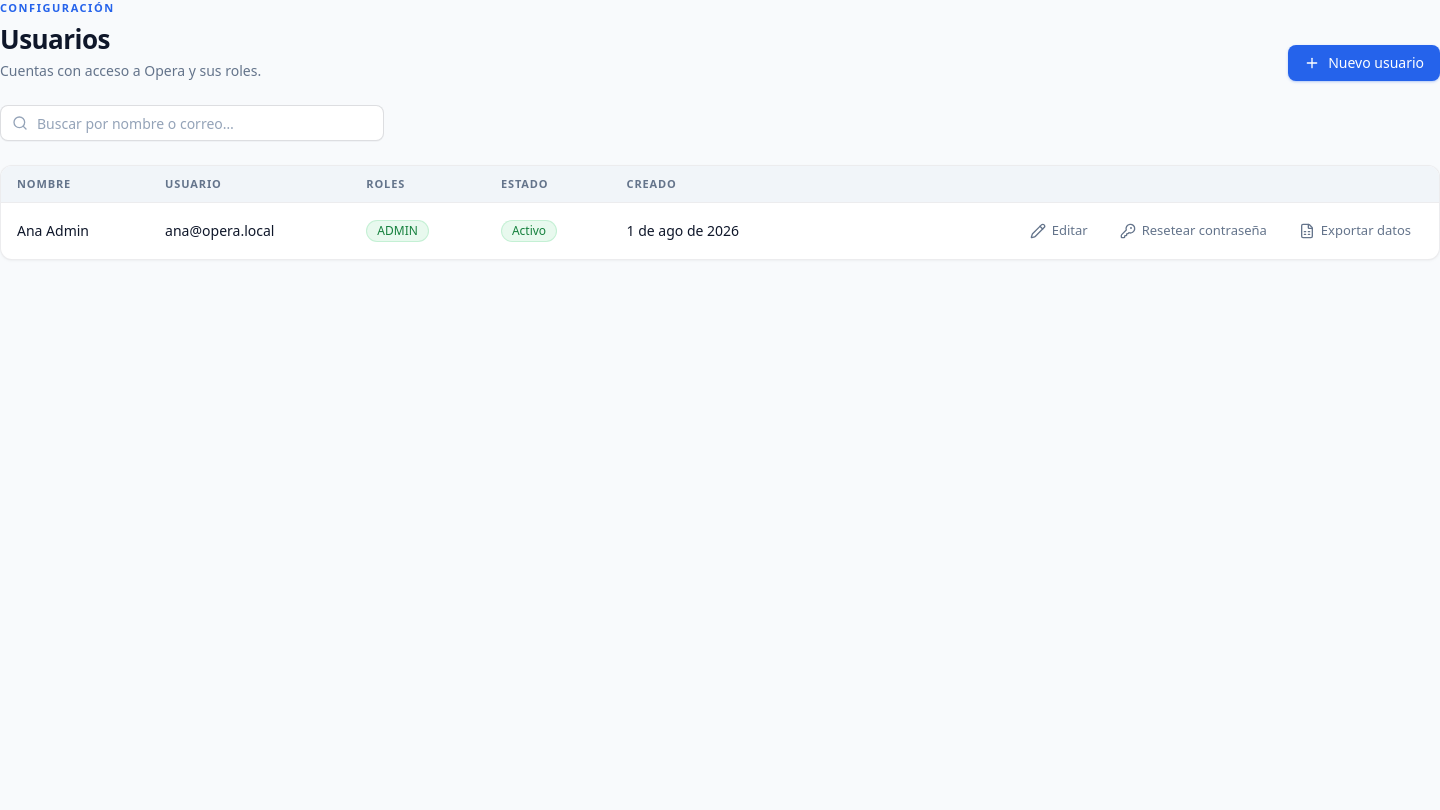
Test: UsersPage › opens the edit modal pre-filled when "Editar" is clicked
Expected: the text "Ana Admin" is shown, [1,202,149,259]
What coordinates should you click on to do the following:
click the button "Editar"
I would click on:
 (1059, 231)
Its box is [1018,215,1100,247].
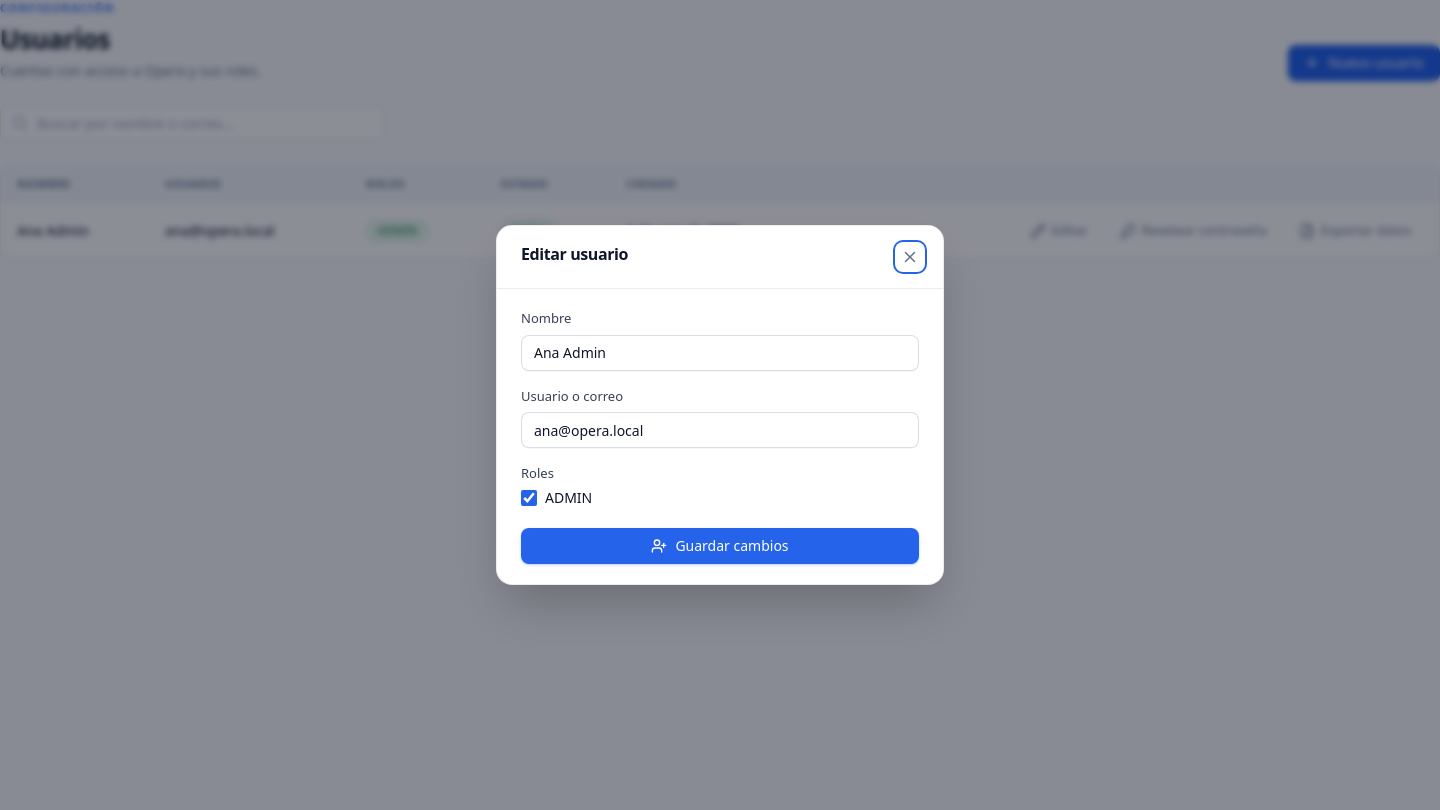
Now the dialog "Editar usuario" is shown, box [496,225,944,585]
Now the field labelled "Nombre" holds "Ana Admin", box [521,335,919,371]
